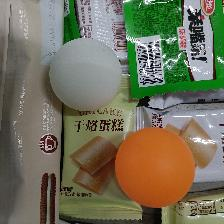WhiteBall: (48, 37, 121, 111)
YellowBall: (113, 126, 195, 208)
